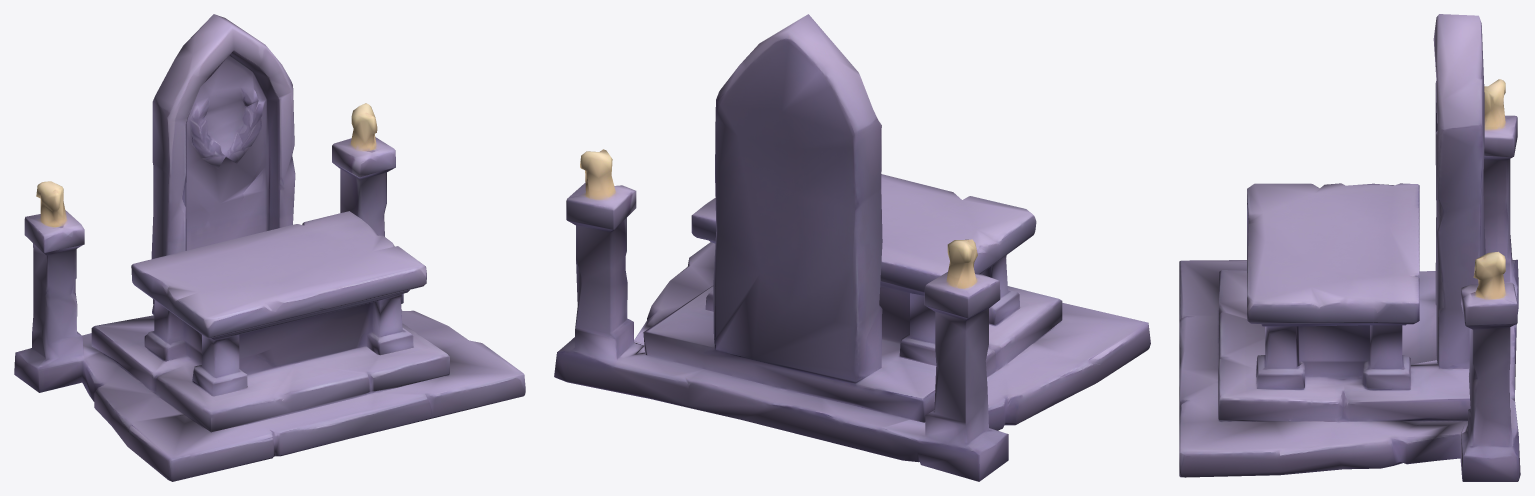
The picture shows the model from 3 angles, left to right: view 1: azimuth 30°, elevation 25°; view 2: azimuth 150°, elevation 25°; view 3: azimuth 270°, elevation 25°; orthographic projection. The views are drawn at different scales.
Parts seen in each view (by area): view 1: tower-landmark; view 2: tower-landmark; view 3: tower-landmark.
Boxes of the visible parts, bbox=[...] form: tower-landmark: bbox=[14, 14, 525, 481]; tower-landmark: bbox=[554, 14, 1150, 481]; tower-landmark: bbox=[1179, 14, 1520, 481].
Bounding box in the file's own units: 2.42 × 2.1 × 1.76.
1 material, 1 textured.
